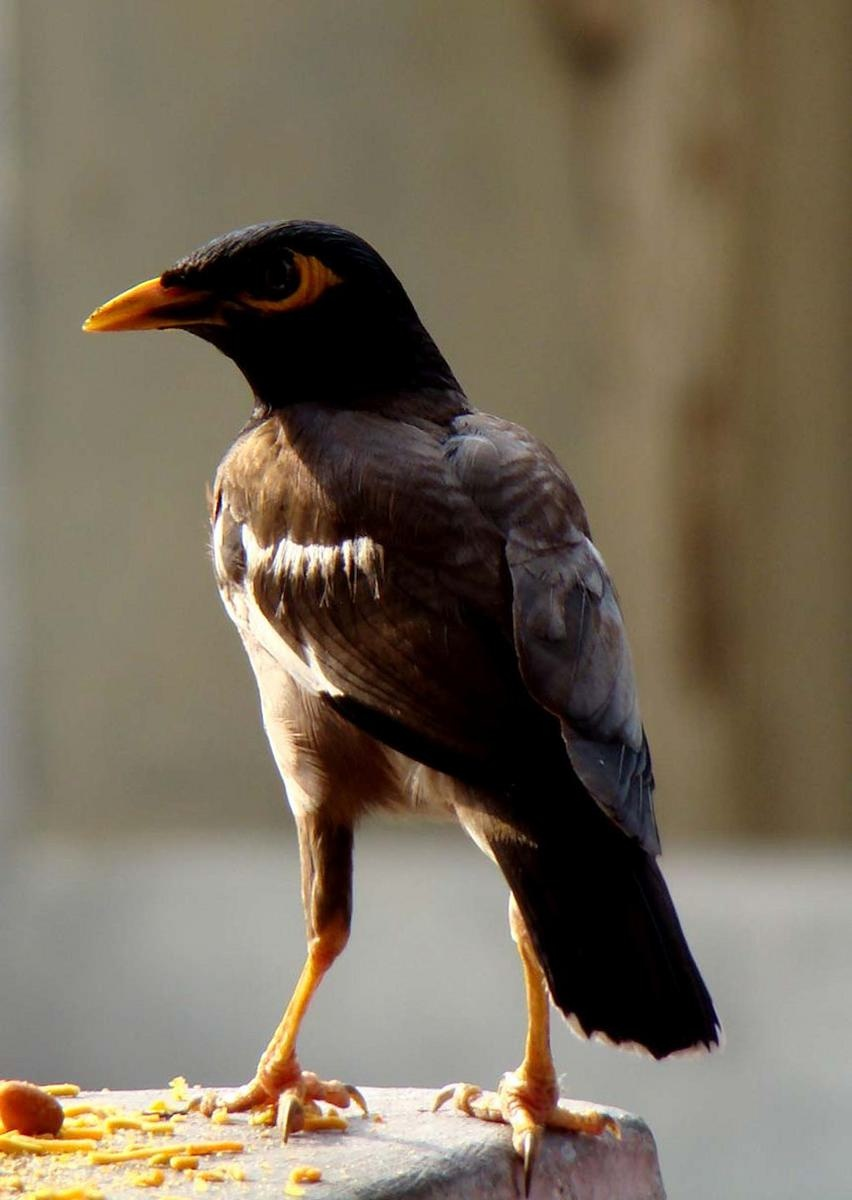myna: (59, 183, 729, 1076)
